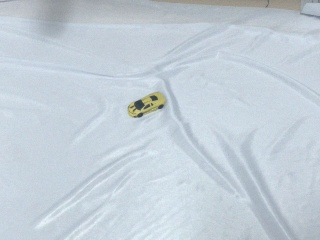toy_car: (128, 92, 166, 118)
